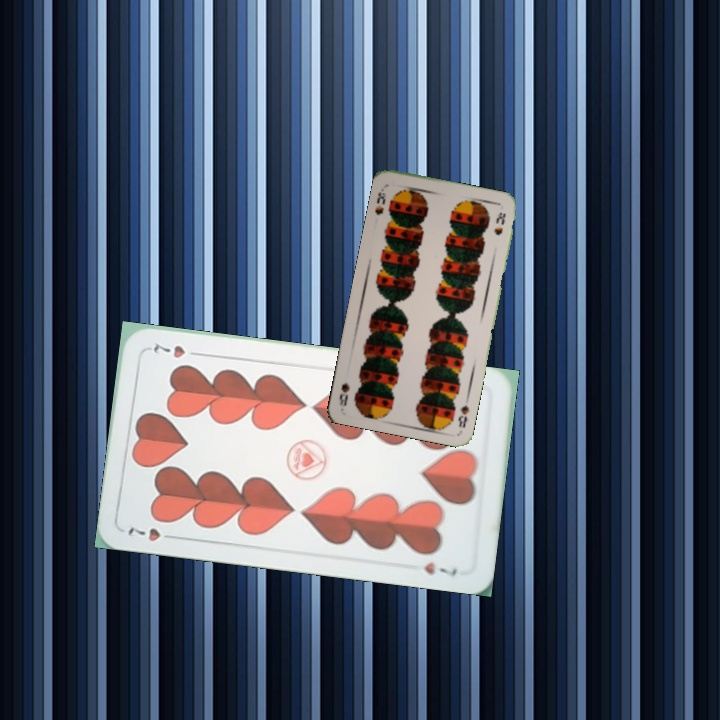H7: (124, 522, 180, 544)
S8: (454, 391, 472, 430), (371, 182, 390, 217)
